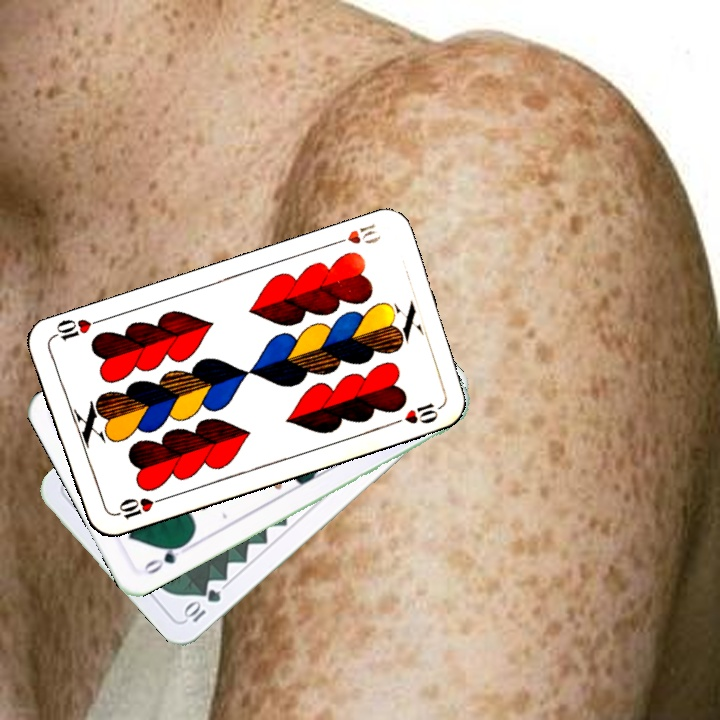G10: (180, 585, 224, 625)
GO: (138, 538, 190, 578)
H10: (326, 219, 383, 249), (109, 493, 167, 522)
